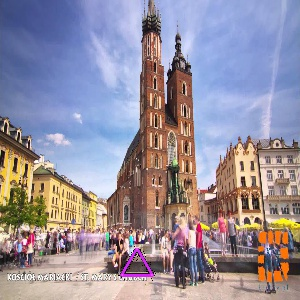triangle: (116, 244, 157, 281)
